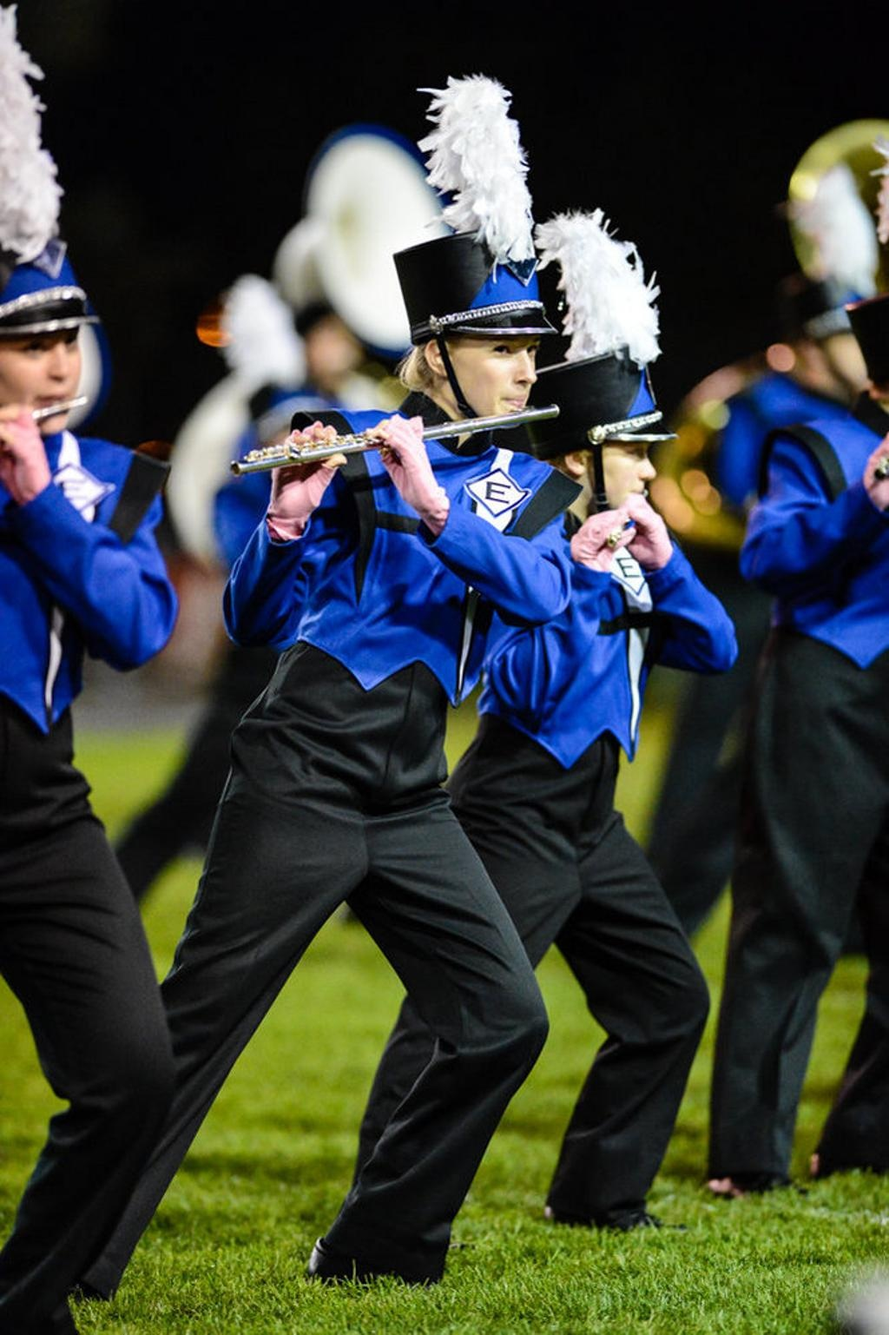human_face: (454, 310, 537, 430), (8, 310, 81, 437), (594, 422, 654, 516)
